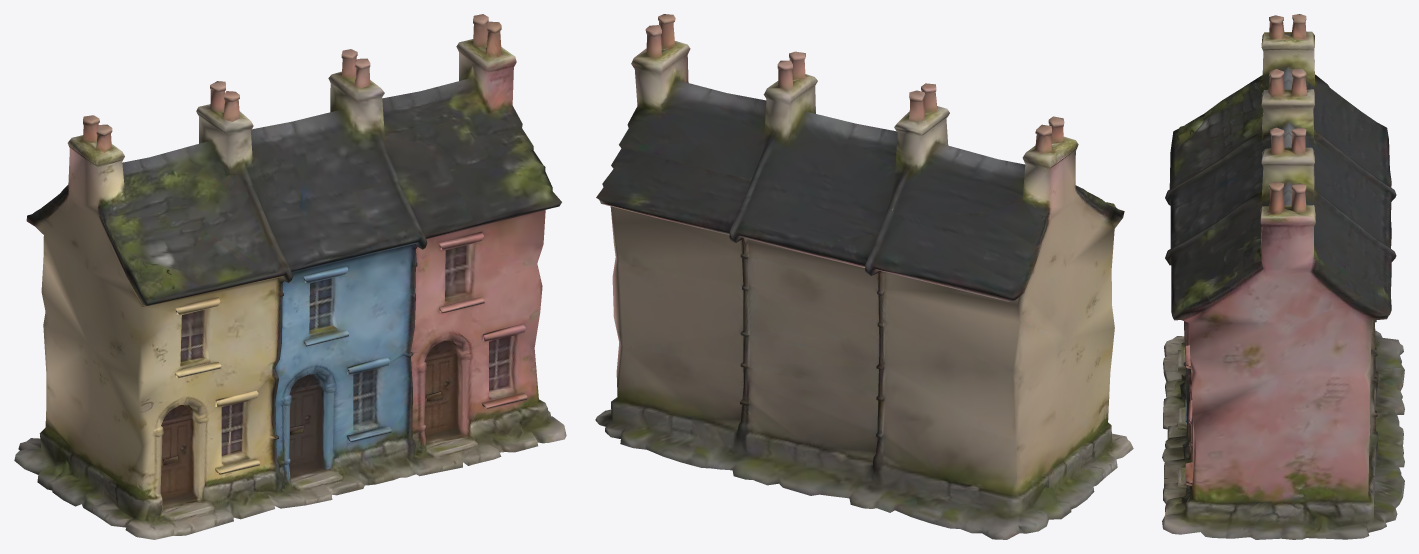
The model's file is house_row_terrace.glb.
3 views of the same model, side by side, from view 1: azimuth 30°, elevation 25°; view 2: azimuth 150°, elevation 25°; view 3: azimuth 270°, elevation 25° (orthographic). The views are drawn at different scales.
Parts seen in each view (by area): view 1: tripo_node_985cb60b-972d-4b45-b3a4-428d7eb19a72; view 2: tripo_node_985cb60b-972d-4b45-b3a4-428d7eb19a72; view 3: tripo_node_985cb60b-972d-4b45-b3a4-428d7eb19a72.
Boxes of the visible parts, box(x1,y1,x2,y2) form: tripo_node_985cb60b-972d-4b45-b3a4-428d7eb19a72: box(14, 14, 566, 539); tripo_node_985cb60b-972d-4b45-b3a4-428d7eb19a72: box(595, 14, 1133, 539); tripo_node_985cb60b-972d-4b45-b3a4-428d7eb19a72: box(1162, 14, 1404, 539).
Bounding box in the file's own units: 11.3 × 9 × 5.73.
Materials: 1 (1 with a texture image).
